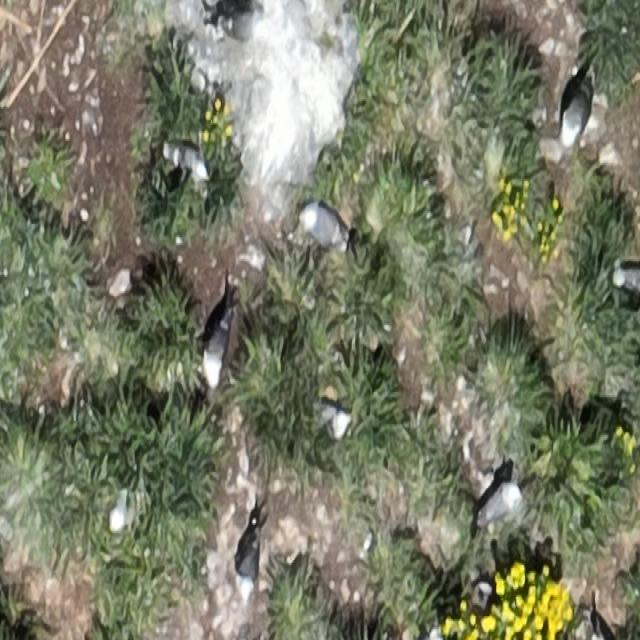umineko: (203, 303, 232, 390), (561, 72, 593, 147), (215, 9, 270, 46), (238, 526, 258, 606), (163, 145, 208, 177), (303, 208, 340, 246), (482, 486, 517, 520), (320, 404, 354, 436), (615, 267, 640, 288)
